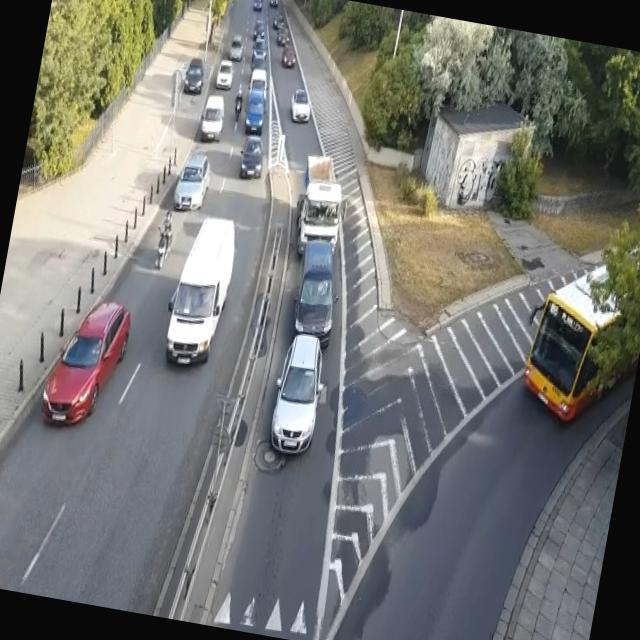bike: (150, 205, 178, 275), (230, 83, 248, 124)
bus: (513, 239, 640, 440)
car: (39, 292, 138, 438), (155, 209, 238, 369), (265, 330, 330, 458), (288, 237, 346, 342), (171, 148, 214, 216), (195, 96, 228, 144), (242, 82, 270, 138), (235, 136, 265, 184), (180, 57, 208, 96), (286, 88, 314, 124), (244, 66, 270, 102), (224, 30, 246, 64), (250, 33, 270, 68), (212, 61, 234, 92), (280, 46, 300, 70), (274, 22, 291, 50), (251, 15, 266, 40), (271, 8, 286, 30), (251, 0, 264, 12), (268, 0, 280, 10)
truck: (288, 150, 349, 261)
